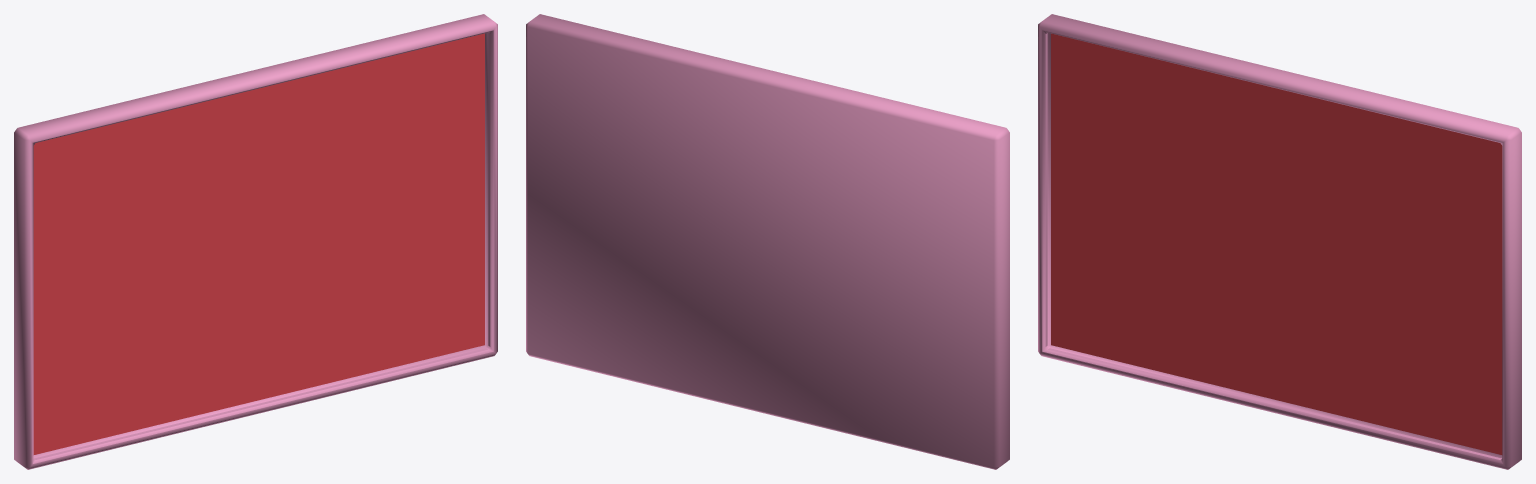
File: FBX_Screen.fbx
3 renders of one model, left to right at view 1: azimuth 30°, elevation 25°; view 2: azimuth 150°, elevation 25°; view 3: azimuth 330°, elevation 25°, orthographic.
Visible parts, largest first — view 1: Screen.001, Screen; view 2: Screen; view 3: Screen.001, Screen.
Boxes of the visible parts, box(x1,y1,x2,y2) form: Screen.001: box(33, 33, 484, 454); Screen: box(14, 14, 497, 469); Screen: box(526, 14, 1009, 469); Screen.001: box(1051, 33, 1502, 454); Screen: box(1038, 14, 1521, 469).
Size of the model in its own units: 395 by 267 by 20.78.
